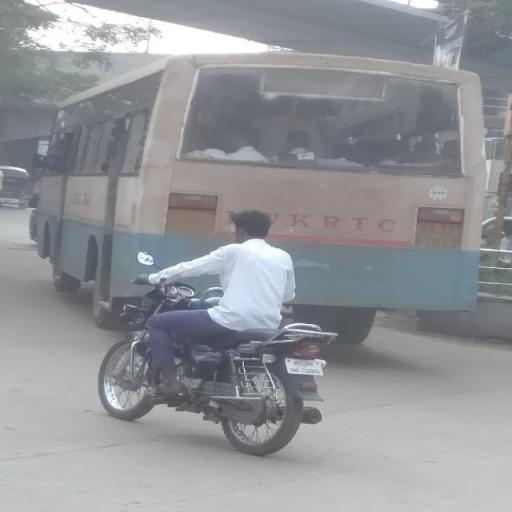bike: (96, 205, 349, 454)
numberplate: (286, 357, 324, 376)
withouthelmet: (232, 212, 268, 239)
